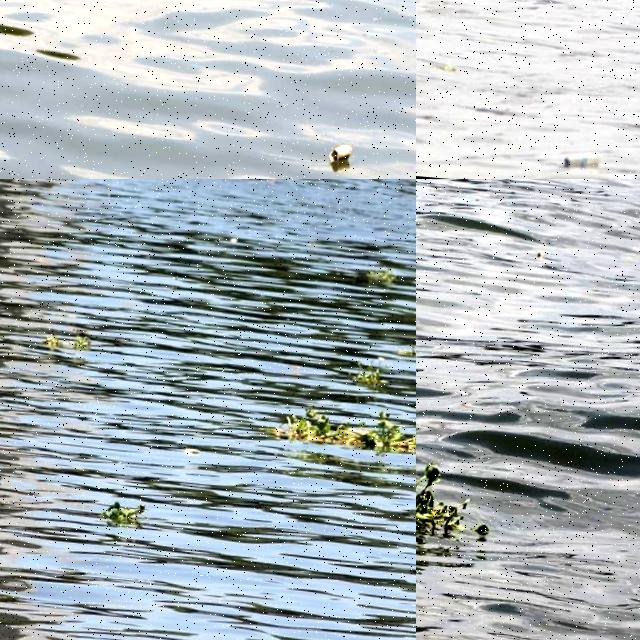can: (330, 144, 353, 162)
water-hyacinth: (417, 455, 517, 541), (266, 404, 417, 458), (347, 356, 398, 396), (103, 495, 152, 528), (42, 332, 100, 354), (363, 260, 398, 288)
